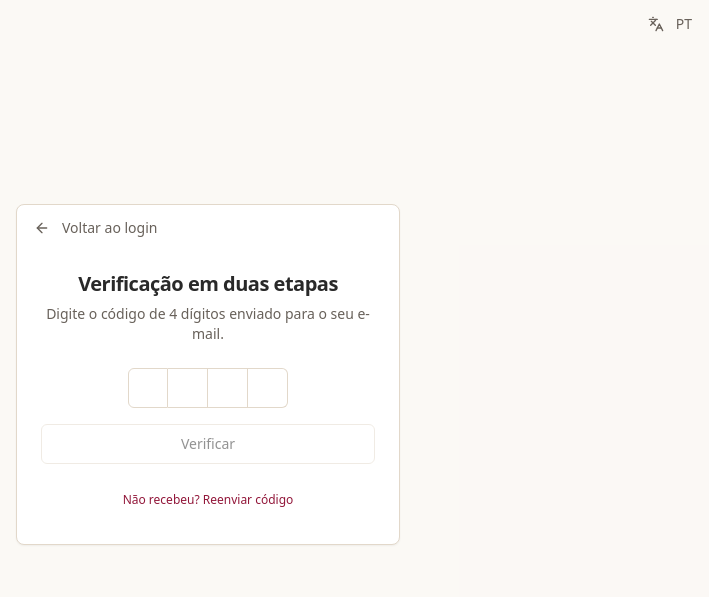
Test case: reenvio do código › avisa quando o reenvio falha
What coordinates should you click on to do the following:
click the button "Não recebeu? Reenviar código"
I would click on:
 (208, 500)
Its box is [107, 480, 309, 520].
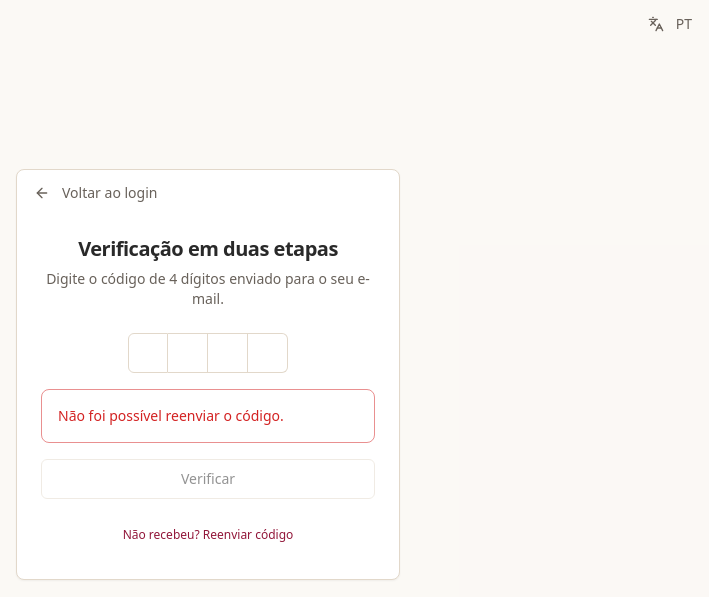
Expected: the message "Não foi possível reenviar o código." is shown, [41, 388, 375, 442]
